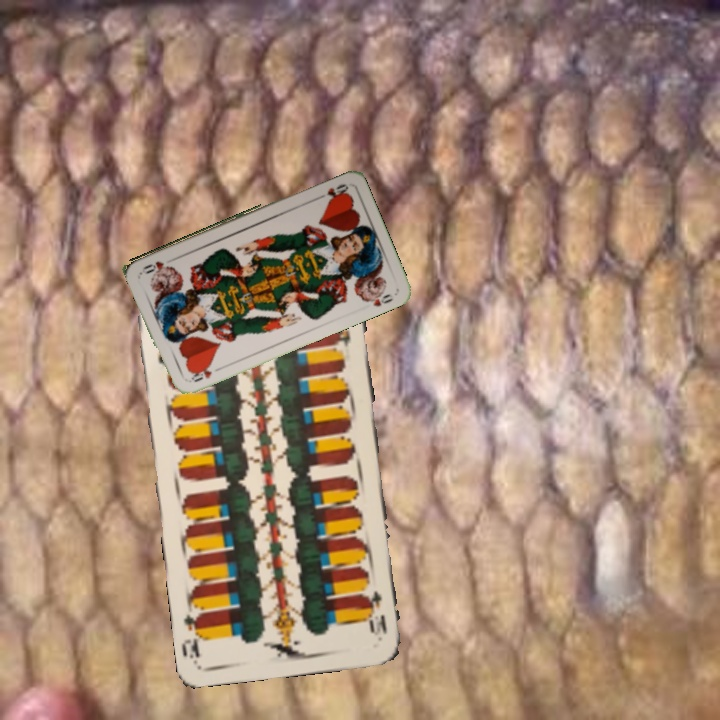E10: (362, 587, 390, 638)
HO: (312, 180, 351, 203), (184, 360, 215, 385)
